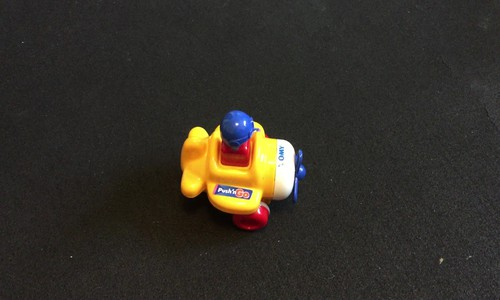toy: (176, 110, 305, 235)
